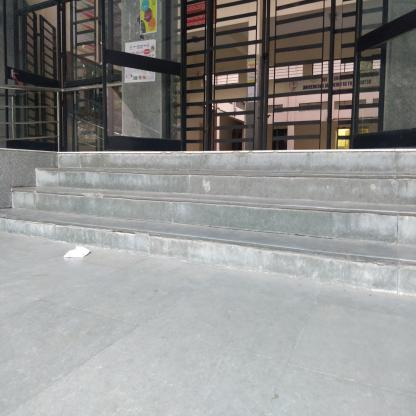stairs: (165, 173, 384, 297)
